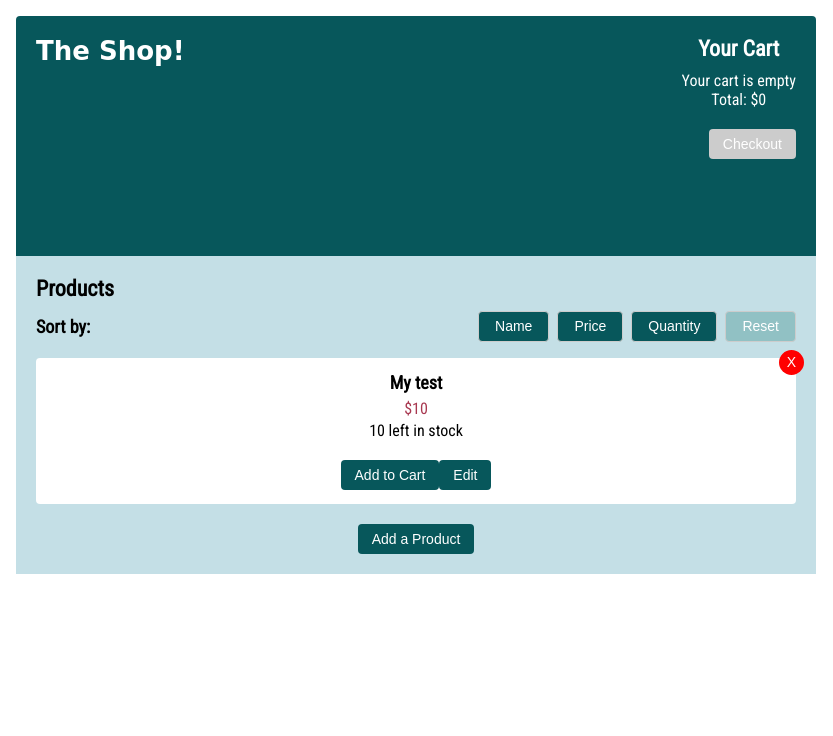
Submiiting the edit form updates the product
Expected: the heading "My test" is shown, [390, 372, 442, 393]
Click the button "Edit".
click(465, 475)  # box [439, 460, 491, 490]
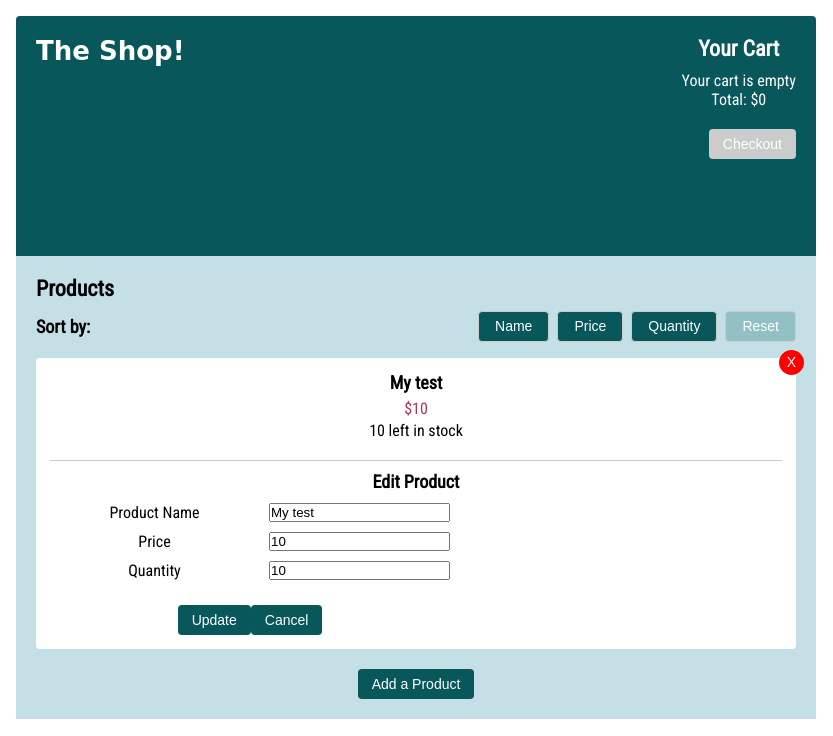
Click the button "Update".
click(214, 620)  # box [178, 605, 251, 635]
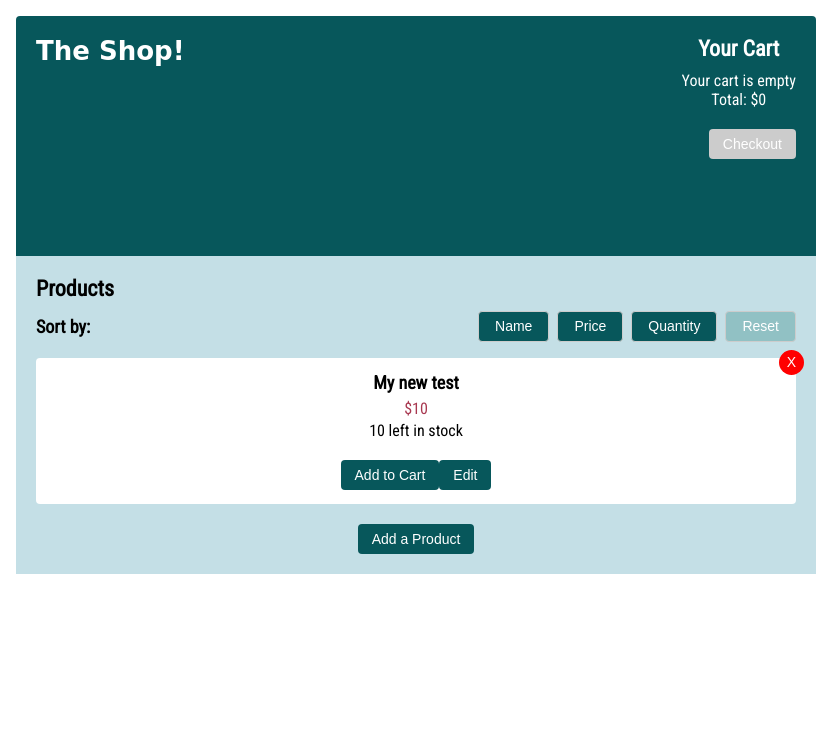
Result: the heading "My new test" is shown at [373, 372, 459, 393]
